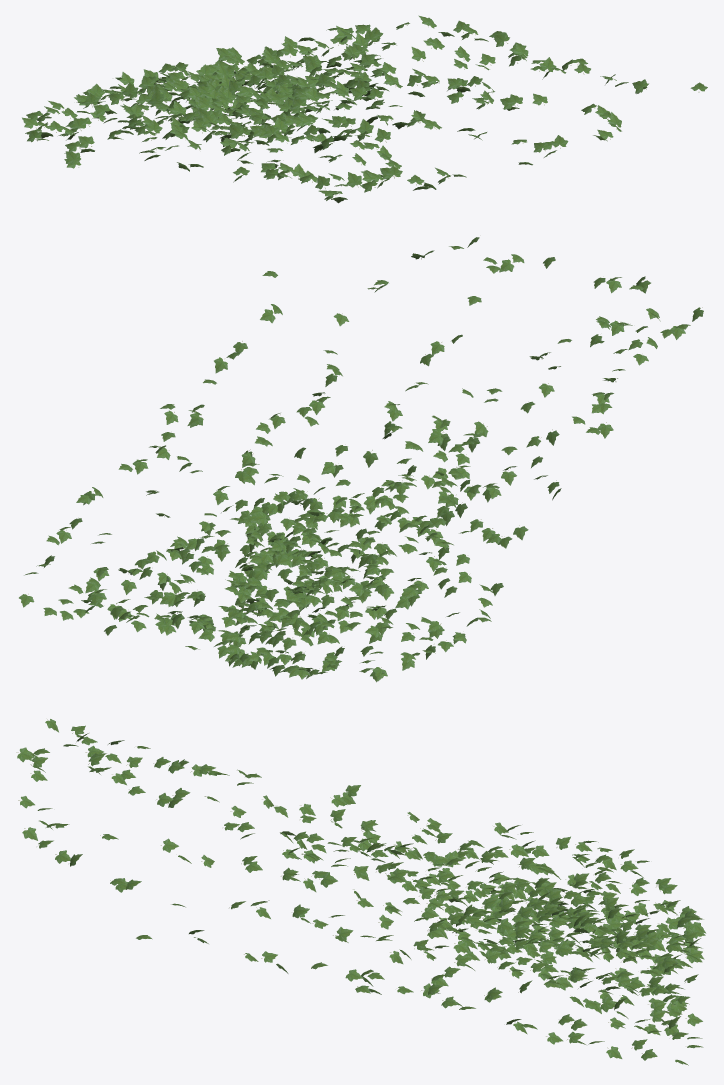
Rendered from SM_Ivy_2_Leaf.fbx.
3 renders of one model, top to bottom at view 1: azimuth 30°, elevation 25°; view 2: azimuth 150°, elevation 25°; view 3: azimuth 270°, elevation 25°, orthographic. The views are drawn at different scales.
Parts seen in each view (by area): view 1: SM_Ivy_2_Leaf_LOD0; view 2: SM_Ivy_2_Leaf_LOD0; view 3: SM_Ivy_2_Leaf_LOD0.
Boxes of the visible parts, box(x1,y1,x2,y2) form: SM_Ivy_2_Leaf_LOD0: box(22, 15, 707, 203); SM_Ivy_2_Leaf_LOD0: box(19, 237, 703, 682); SM_Ivy_2_Leaf_LOD0: box(16, 719, 706, 1065).
Size of the model in its own units: 506 by 698 by 200.
Materials: 1 (1 with a texture image).
